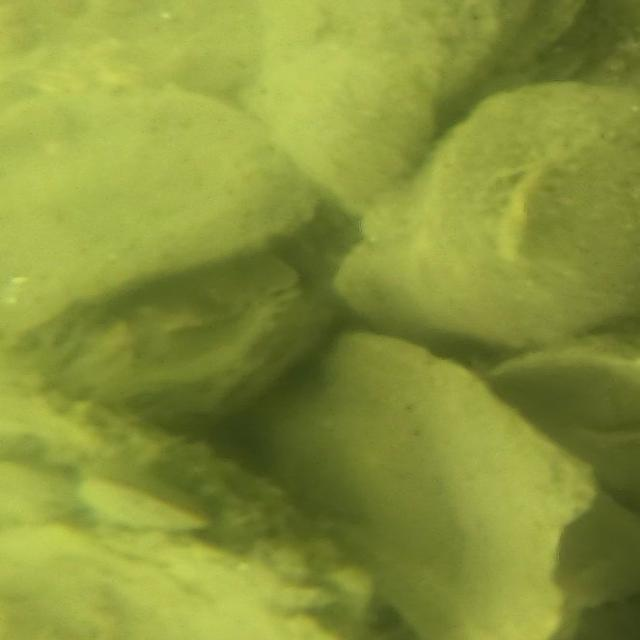Oyster-Closed: (242, 0, 584, 222)
Oyster-Indeterminate: (254, 332, 590, 640), (0, 374, 375, 640), (0, 65, 314, 341), (338, 83, 640, 349), (35, 252, 300, 417), (231, 198, 367, 404), (489, 334, 640, 504), (562, 491, 640, 610)
